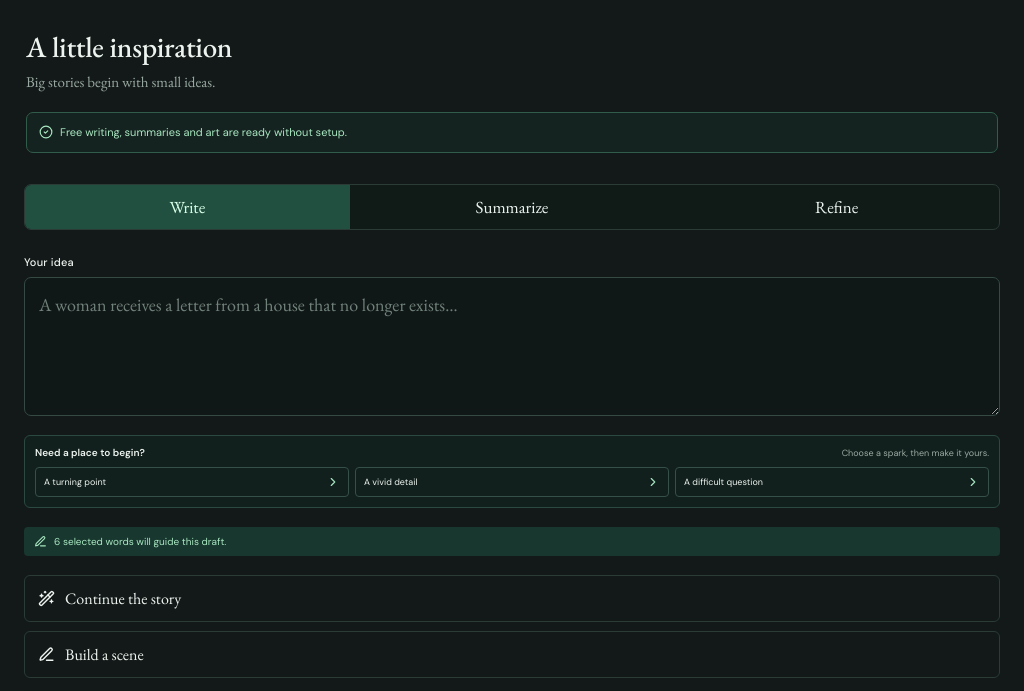
Scenario: writing companion › starts a summary on the selected passage when one is available
Click the button "Summarize": coordinates (512, 207) [350,185,674,229]
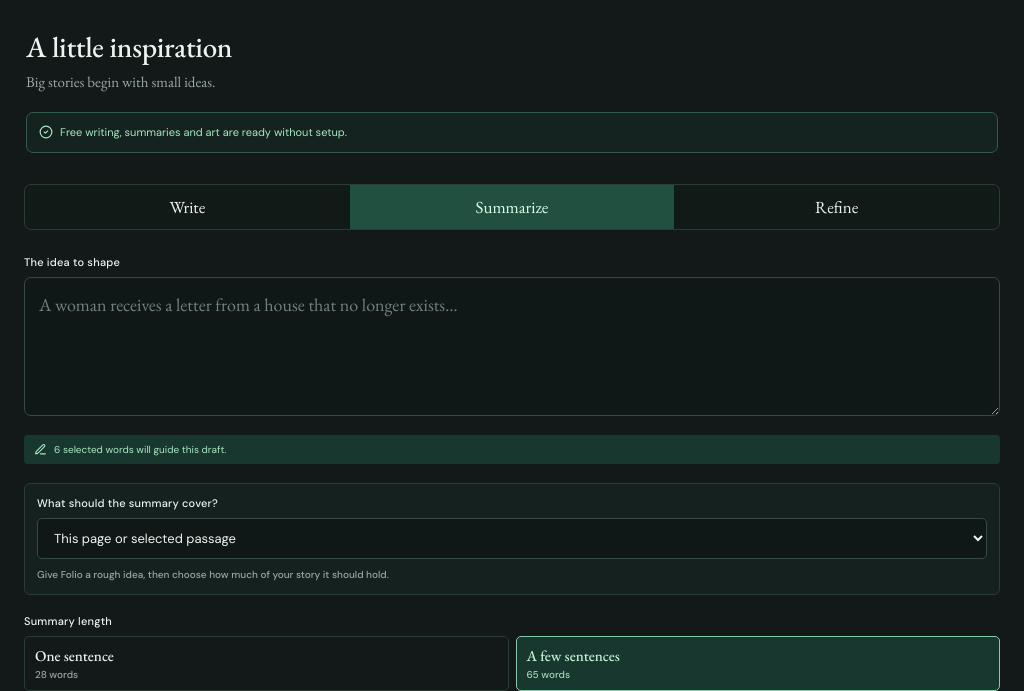
Check: the dropdown named "Summary scope" shows "This page or selected passage", box [37,518,987,559]
